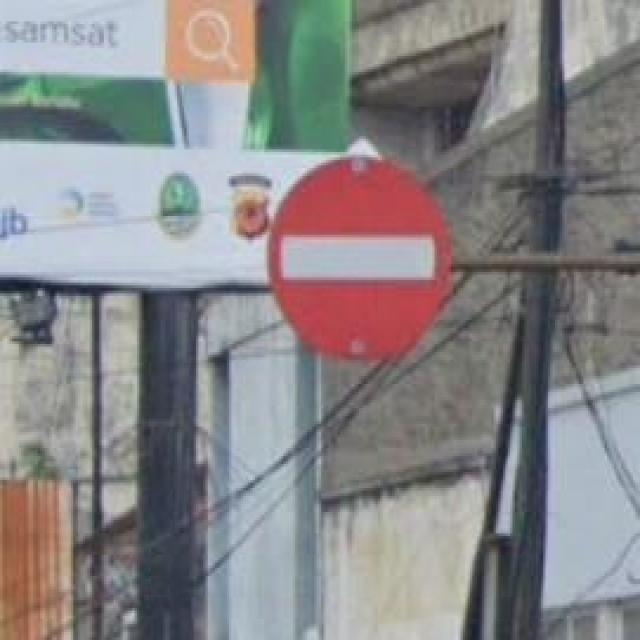traffic sign: (269, 155, 451, 363)
